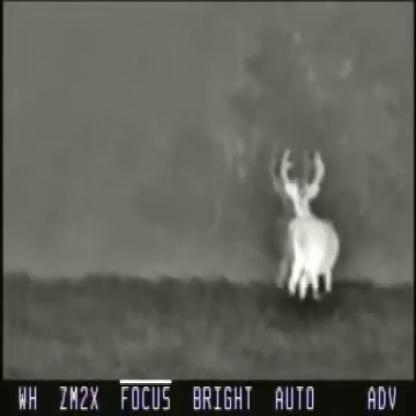rehkitze: (273, 147, 343, 305)
